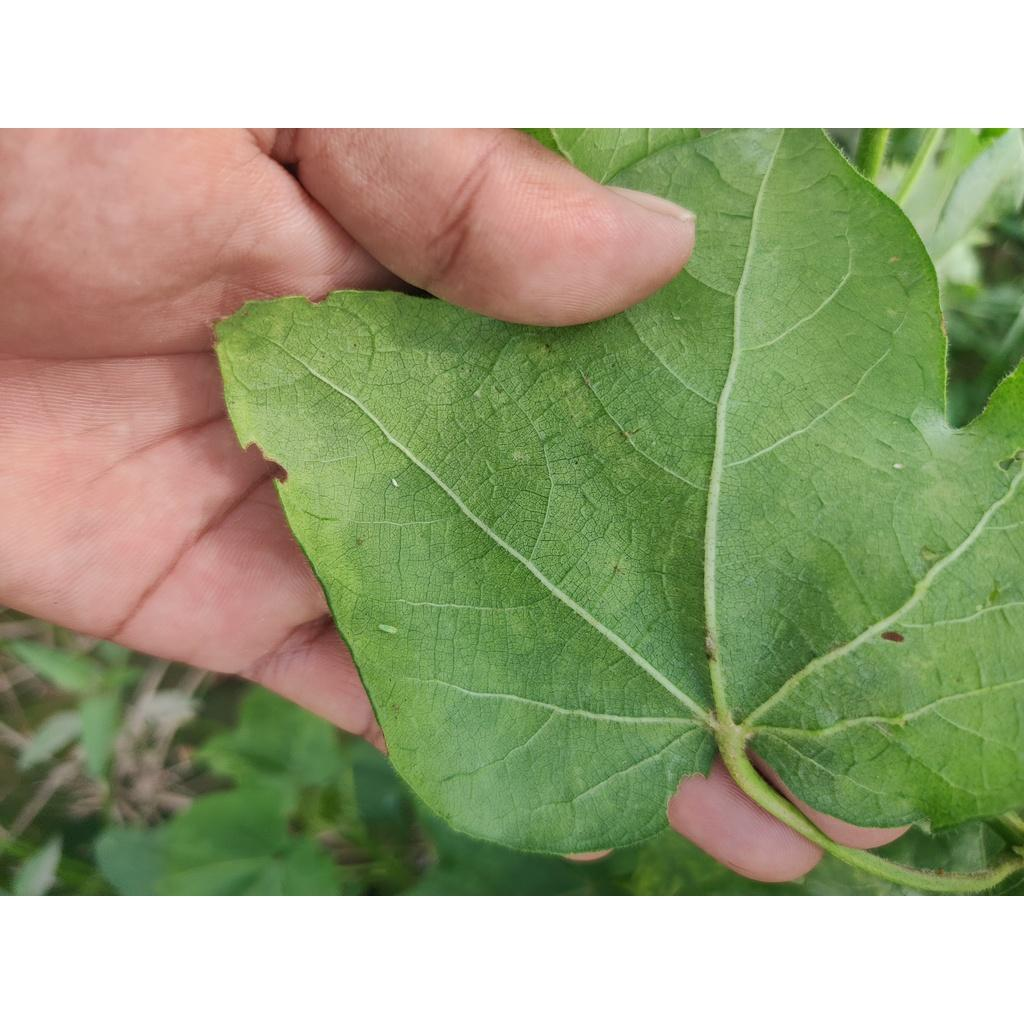adult: (376, 623, 398, 635), (892, 462, 904, 470), (391, 478, 399, 487), (672, 316, 681, 320)
